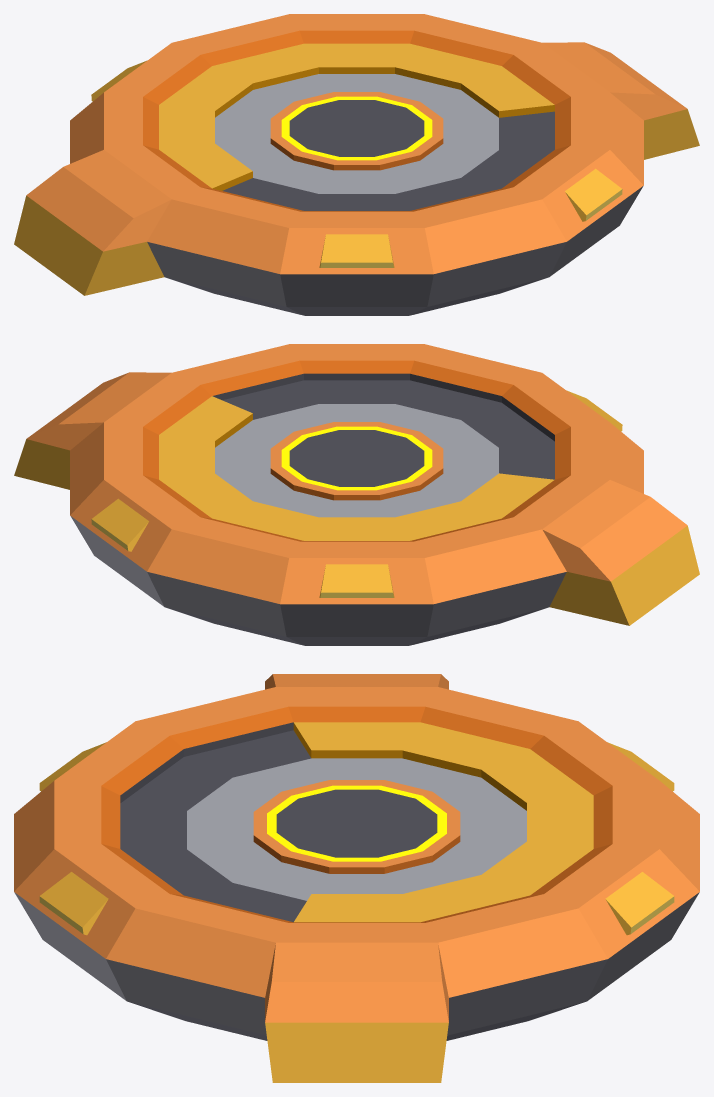
The model's file is Platform_SciFi_Alt.glb.
3 views of the same model, one above another, from view 1: azimuth 30°, elevation 25°; view 2: azimuth 150°, elevation 25°; view 3: azimuth 270°, elevation 25° (orthographic). The views are drawn at different scales.
Visible parts, largest first — view 1: CircularPlatform; view 2: CircularPlatform; view 3: CircularPlatform.
Part boxes in pixels (bbox=[...]): CircularPlatform: bbox=[14, 14, 699, 315]; CircularPlatform: bbox=[14, 344, 699, 645]; CircularPlatform: bbox=[14, 674, 699, 1082].
Size of what is drawn, in the model's own units: 2.62 by 0.4716 by 2.12.
1 material, 1 textured.
